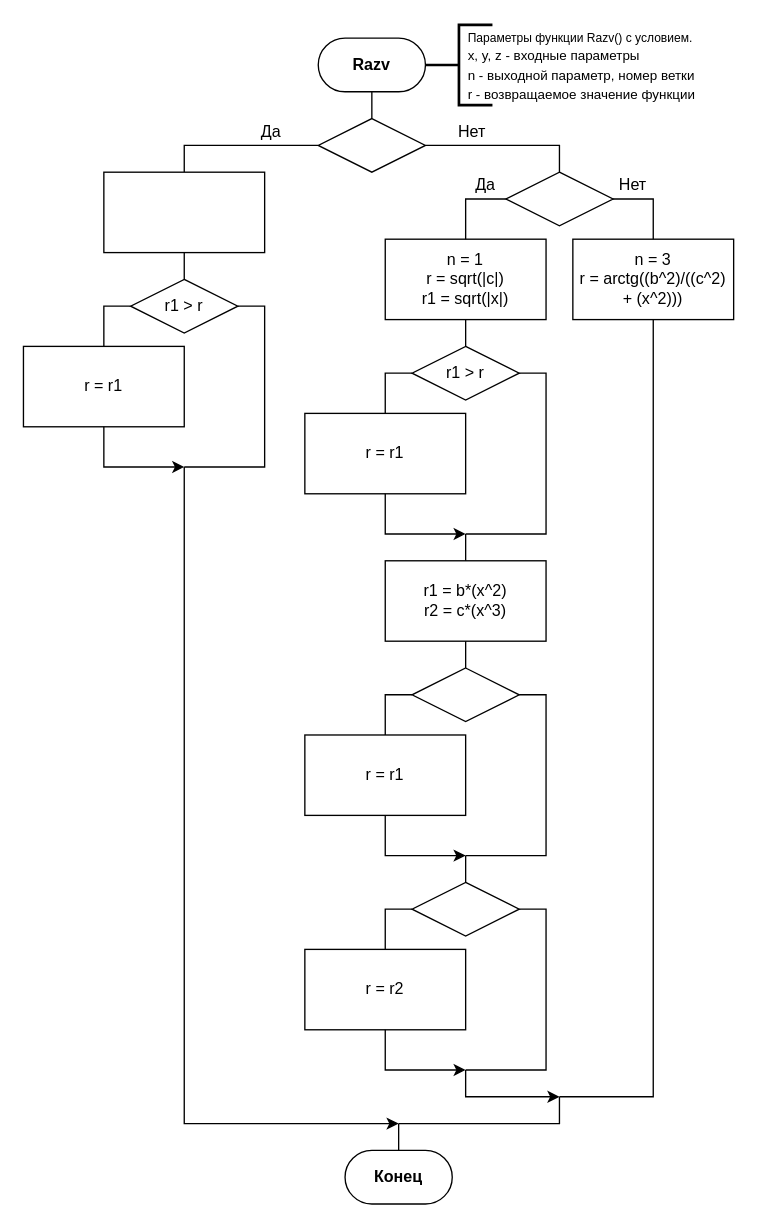
Image size: 757x1227. Some labels were removed from this diagram. Each missing label, with the box of its shape:
n = 2 r = b - (c*(x^2)) r1 = e^x: (103, 171, 265, 253)
r1 < r: (411, 667, 519, 722)
r2 < r: (411, 881, 519, 936)
x < -3: (505, 171, 613, 226)
x > 3: (317, 117, 425, 172)
